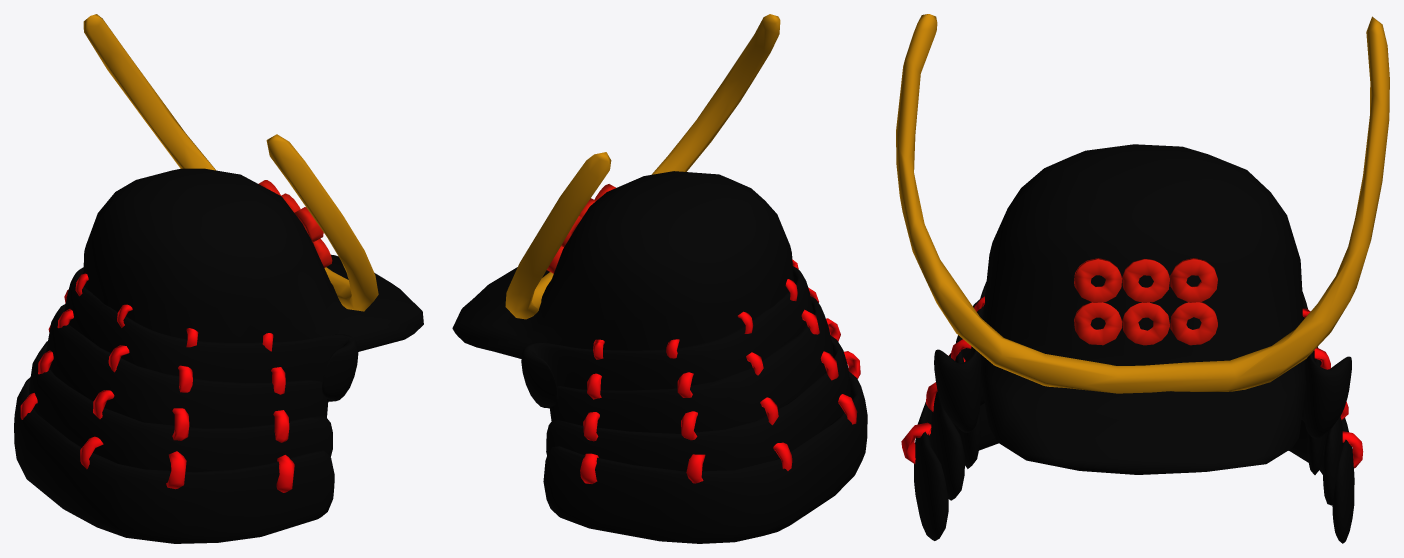
Rendered from spartafix2.fbx.
3 views of the same model, side by side, from view 1: azimuth 30°, elevation 25°; view 2: azimuth 150°, elevation 25°; view 3: azimuth 270°, elevation 25° (orthographic). The views are drawn at different scales.
Visible parts, largest first — view 1: helmet; view 2: helmet; view 3: helmet.
Part boxes in pixels (bbox=[...]): helmet: bbox=[14, 14, 423, 543]; helmet: bbox=[452, 14, 867, 543]; helmet: bbox=[896, 14, 1389, 543].
Bounding box in the file's own units: 58.9 × 64.83 × 57.57.
